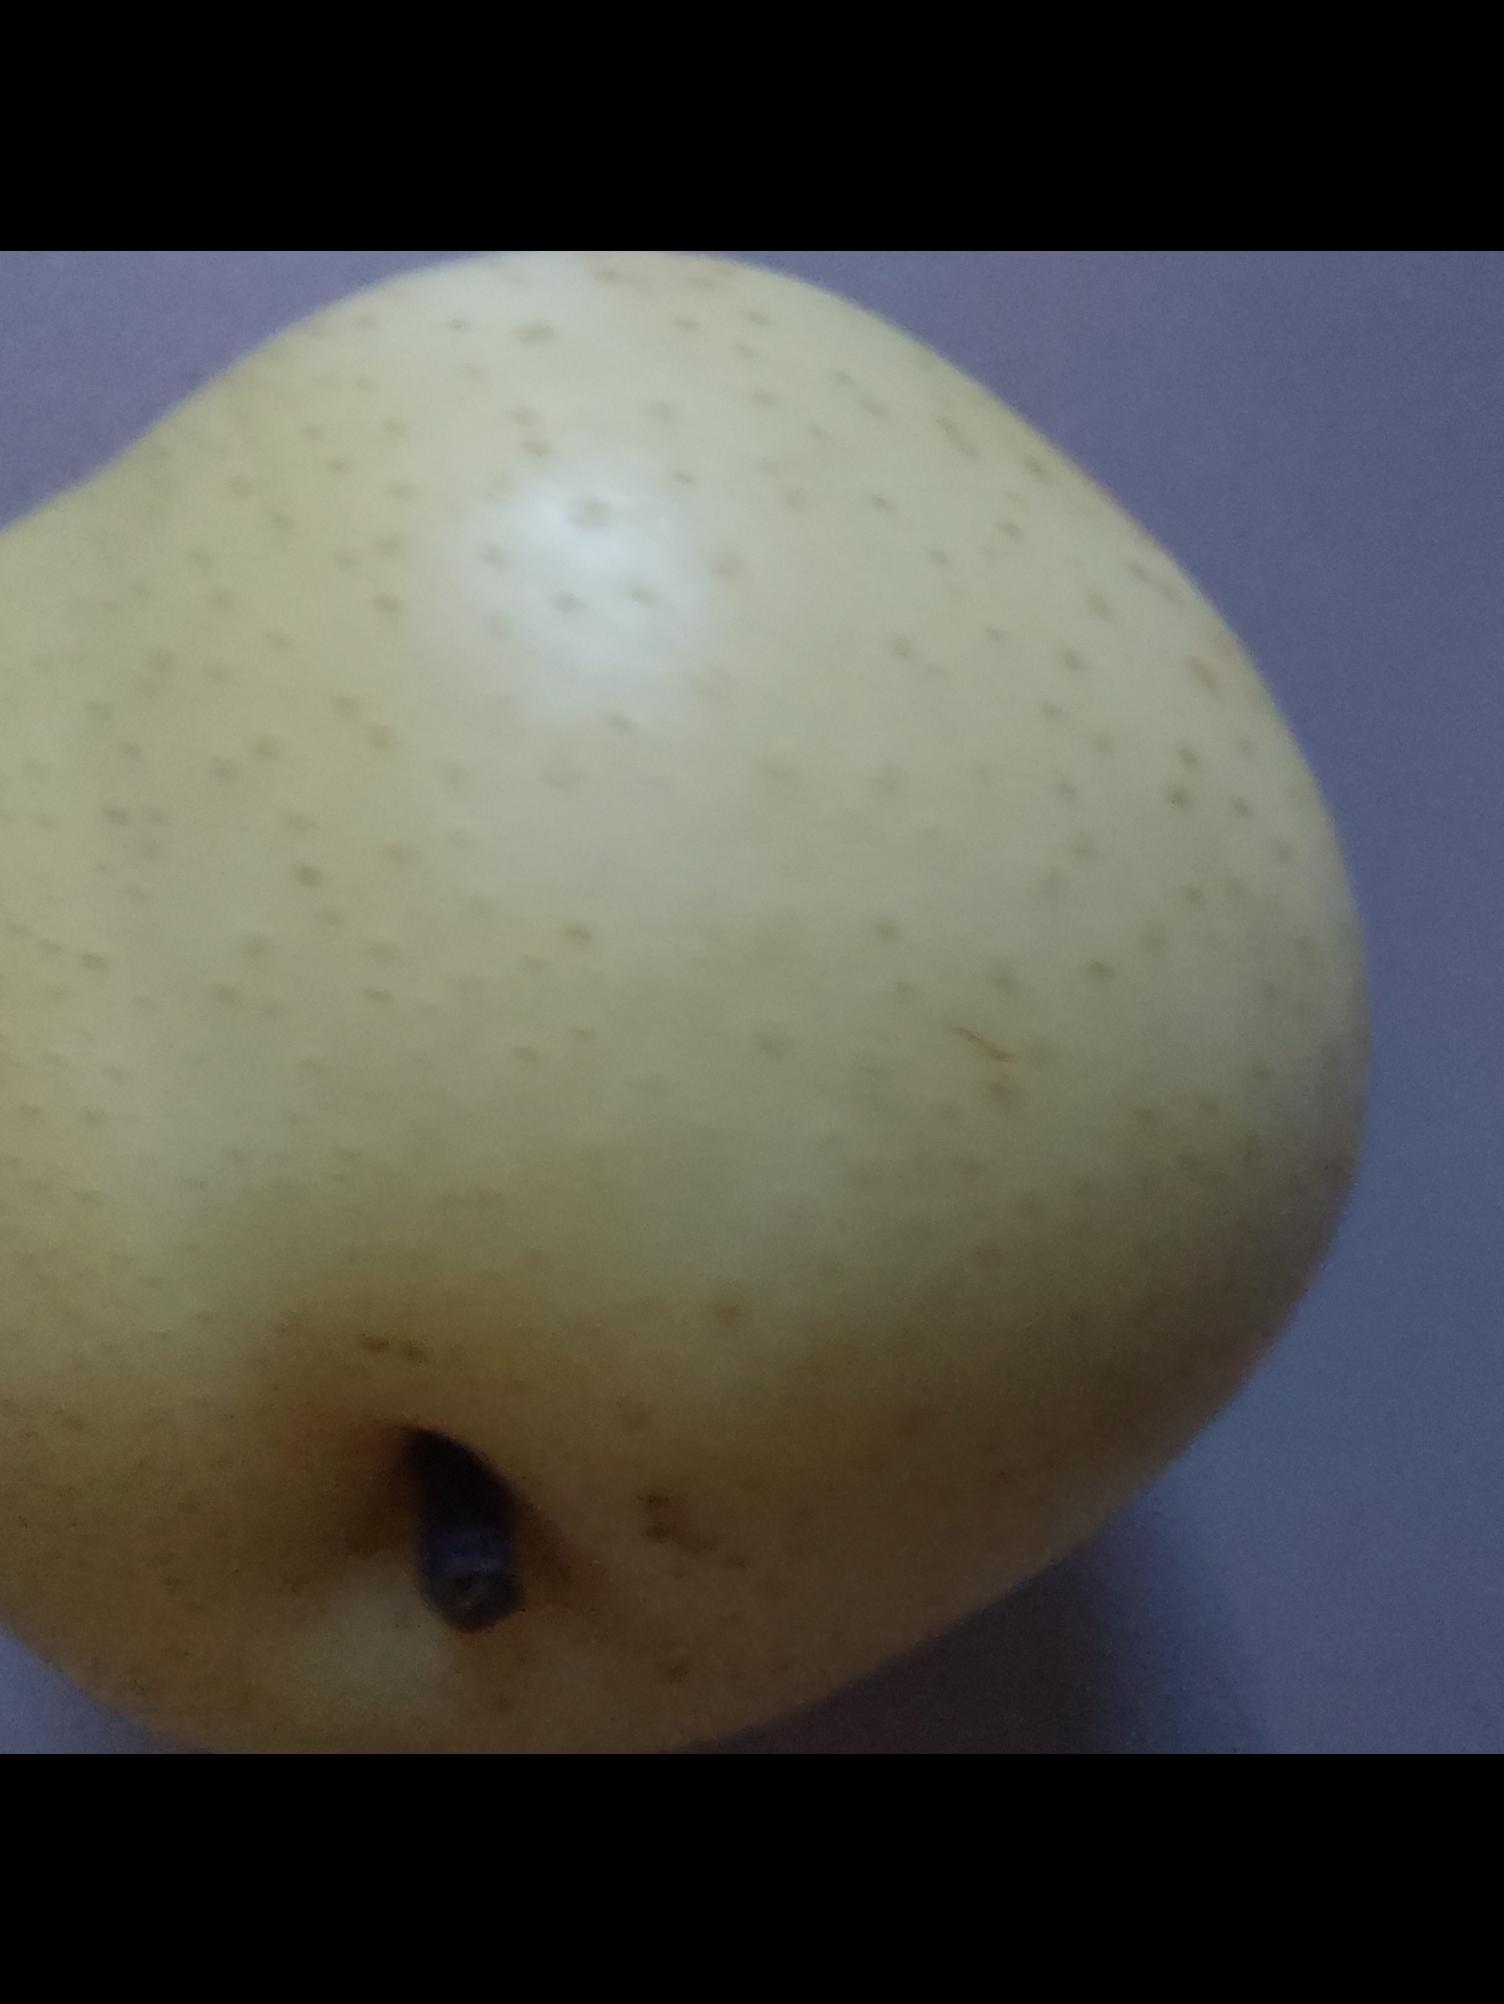Good Pear: (0, 250, 1411, 1754)
